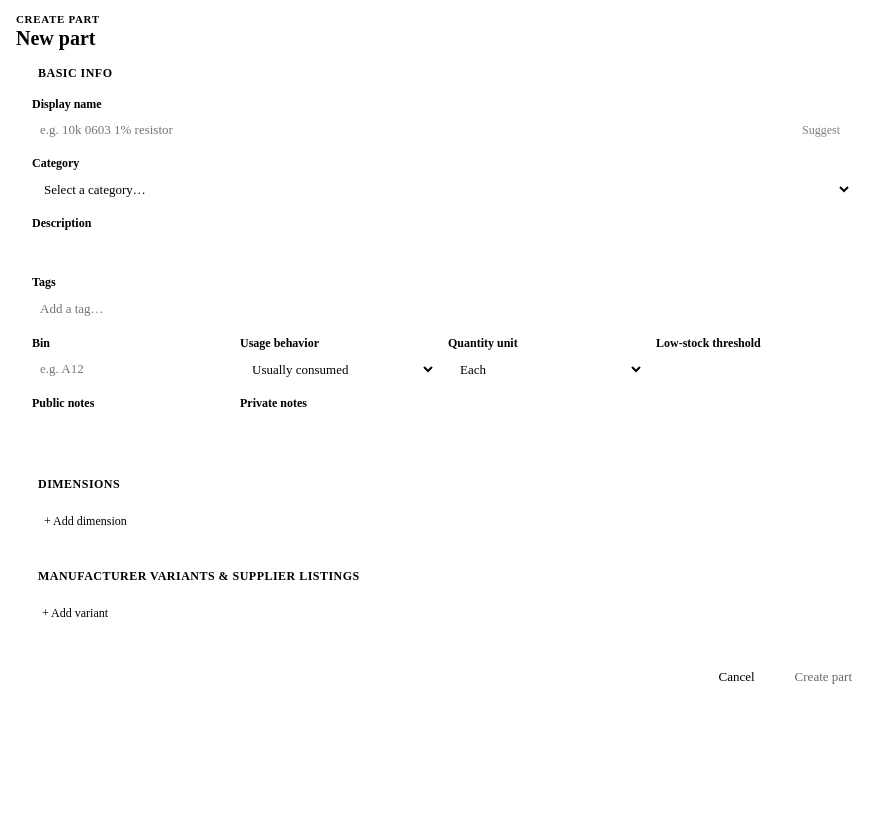
Test case: PartForm — category-adaptive attribute rendering › swaps the attribute fields when the category changes
This screenshot has width=869, height=813.
Select "Resistor" in the dropdown labelled "Category" at (442, 190), box x1=32 y1=175 x2=852 y2=204
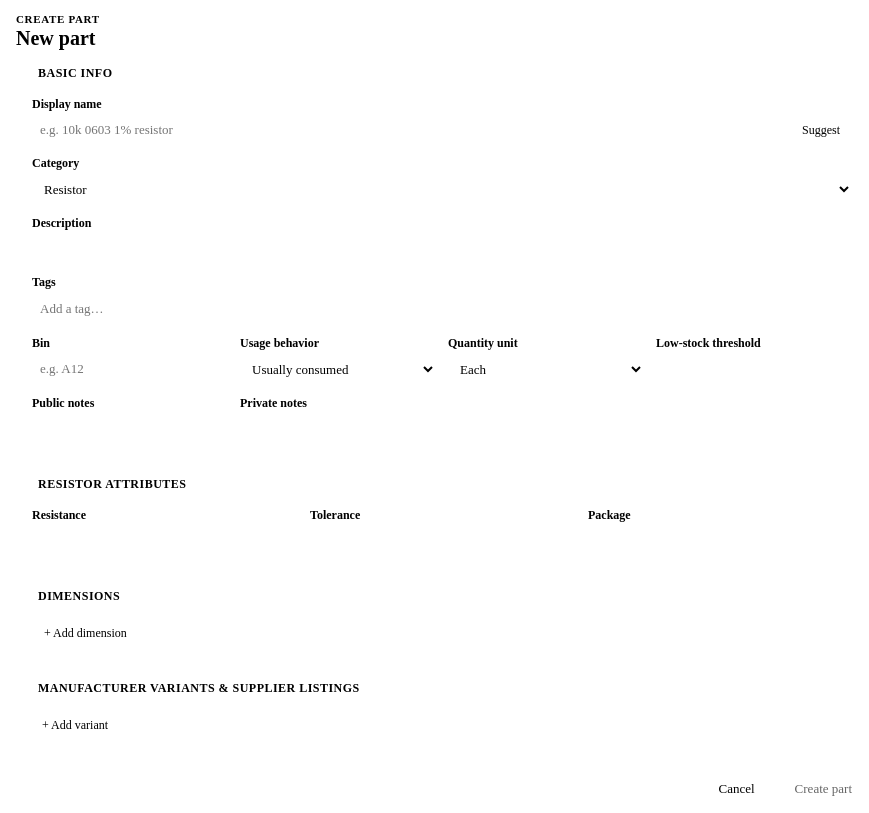
Select "Capacitor" in the dropdown labelled "Category" at (442, 190), box x1=32 y1=175 x2=852 y2=204
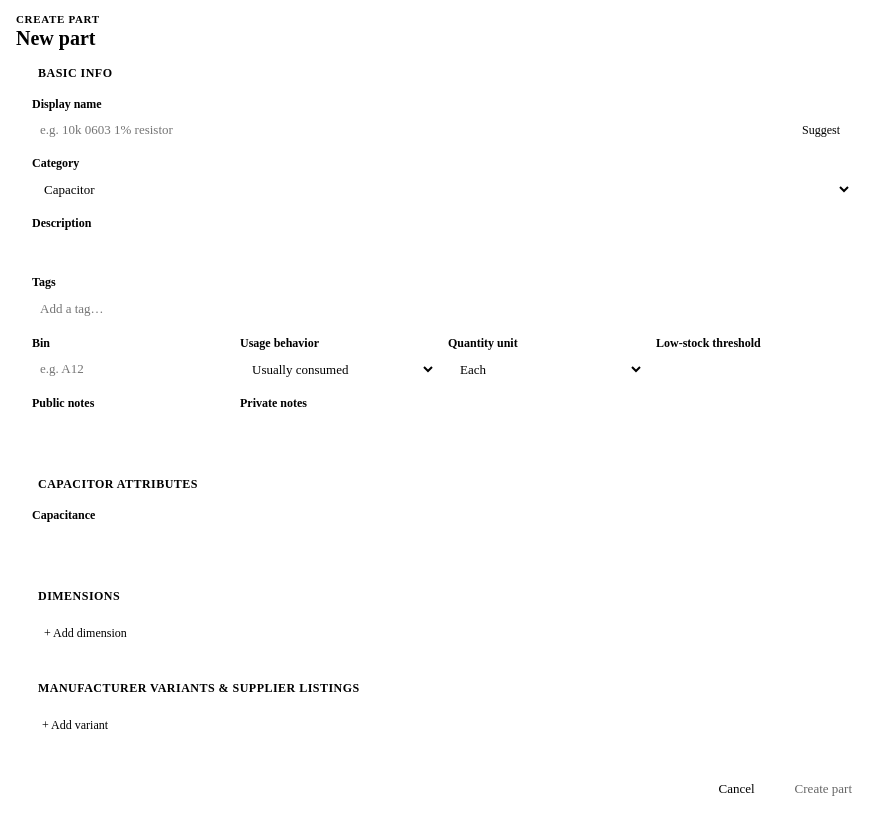
Expected: the label labelled "Resistance" is gone
